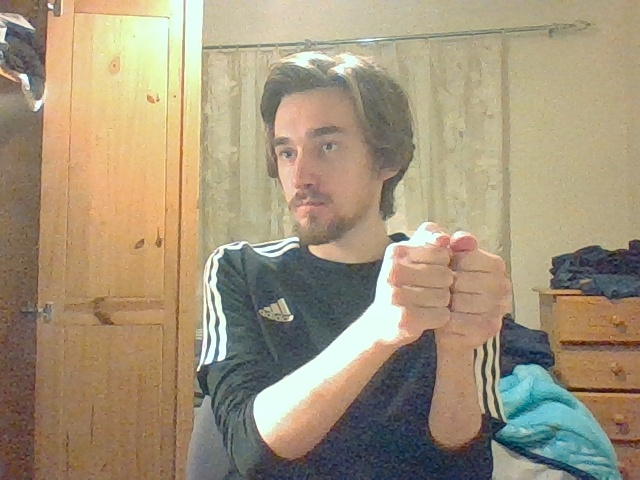brother: (381, 221, 512, 340)
